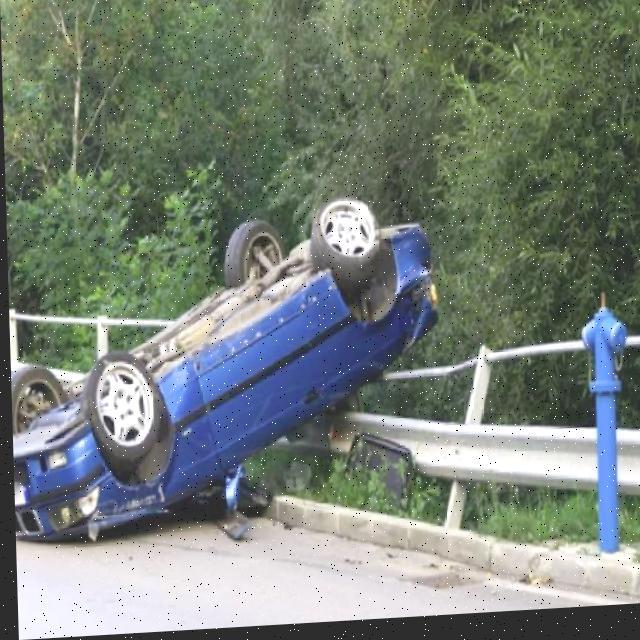single accident: (5, 200, 441, 545)
